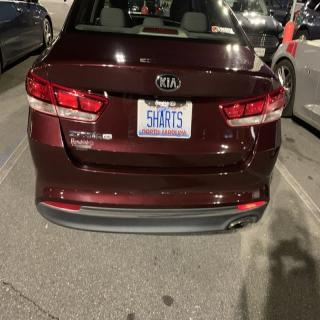license: (138, 100, 194, 140)
